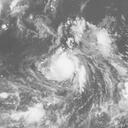cyclone: (39, 44, 84, 90)
